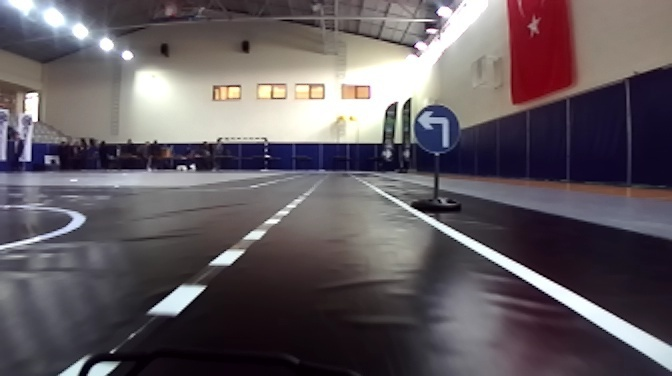sola_donus: (412, 107, 459, 151)
